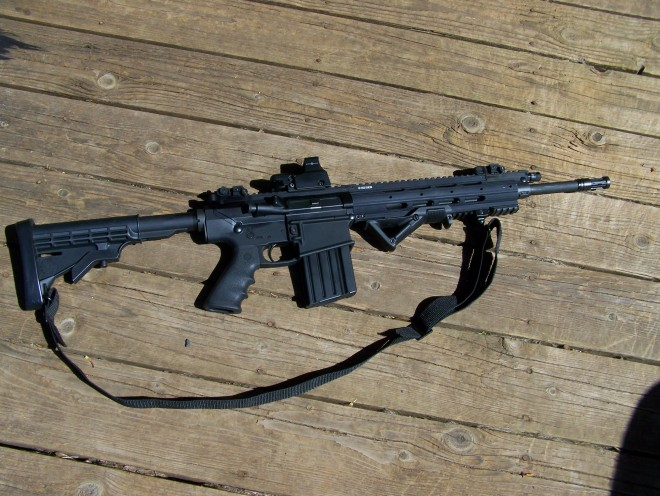Rifle: (5, 154, 617, 321)
